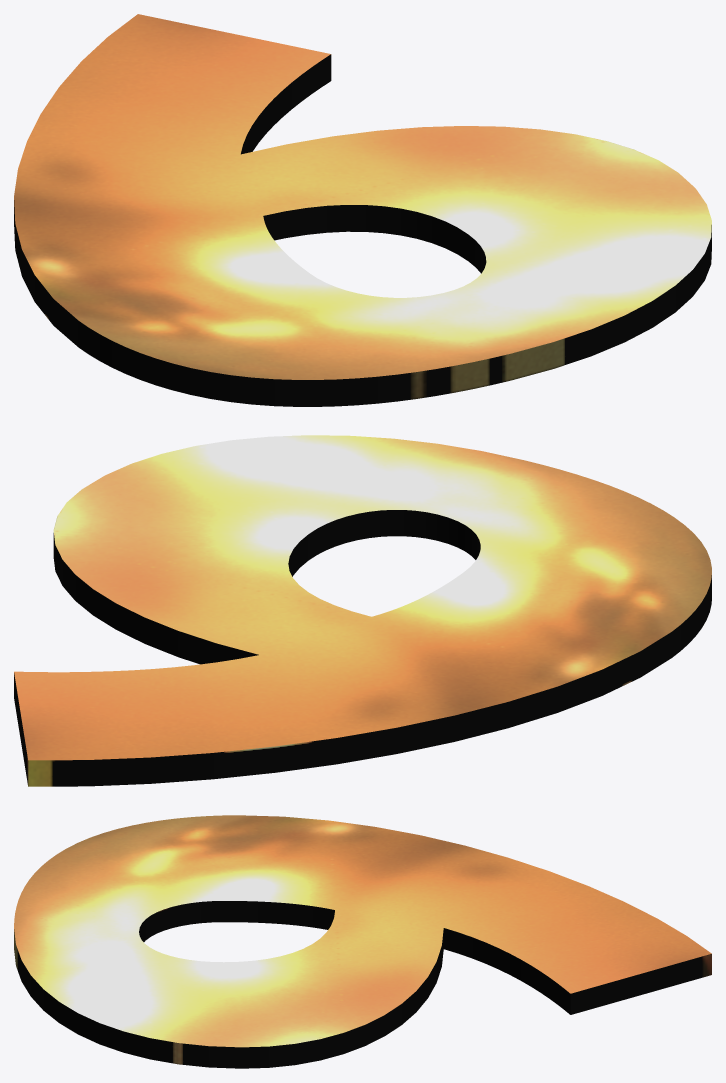
Rendered from Number6.fbx.
The picture shows the model from 3 angles, top to bottom: view 1: azimuth 30°, elevation 25°; view 2: azimuth 150°, elevation 25°; view 3: azimuth 270°, elevation 25°; orthographic projection. The views are drawn at different scales.
Visible parts, largest first — view 1: 6; view 2: 6; view 3: 6.
Part boxes in pixels (x1=…): 6: x1=14, y1=14, x2=711, y2=406; 6: x1=14, y1=435, x2=711, y2=786; 6: x1=14, y1=815, x2=711, y2=1068.
Size of the model in its own units: 1.32 by 0.0566 by 1.68.
Materials: 1 (1 with a texture image).
